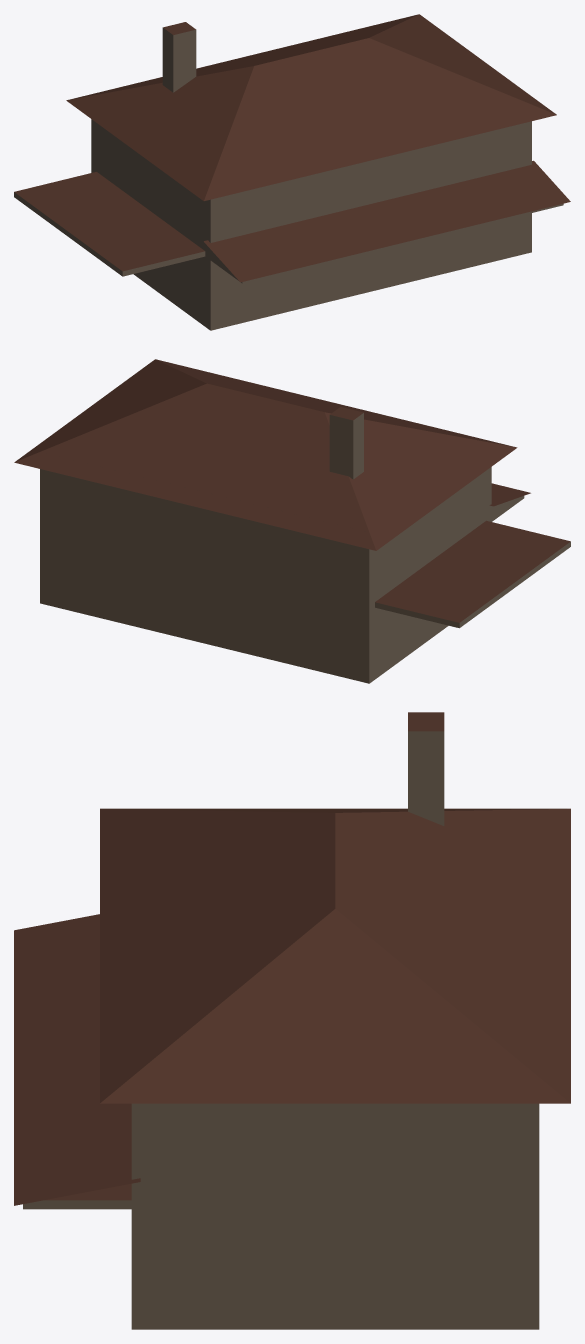
The model's file is cr-ranch-two.far-facades-v3.lod2.glb.
3 renders of one model, top to bottom at view 1: azimuth 30°, elevation 25°; view 2: azimuth 150°, elevation 25°; view 3: azimuth 270°, elevation 25°, orthographic. The views are drawn at different scales.
Parts seen in each view (by area): view 1: cr-ranch-two; view 2: cr-ranch-two; view 3: cr-ranch-two.
Part boxes in pixels (<box>): cr-ranch-two: <box>14,14,570,330</box>; cr-ranch-two: <box>14,359,570,683</box>; cr-ranch-two: <box>14,712,570,1329</box>.
Size of the model in its own units: 18.3 by 9.4 by 12.3.
